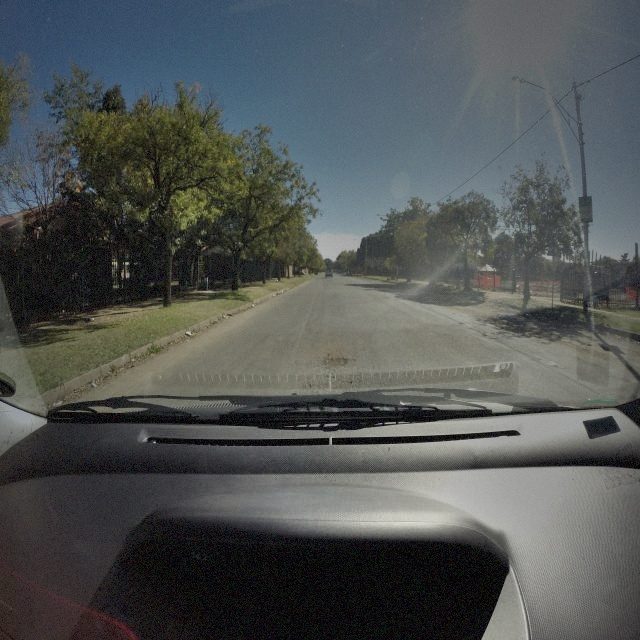pothole: (323, 356, 347, 371)
